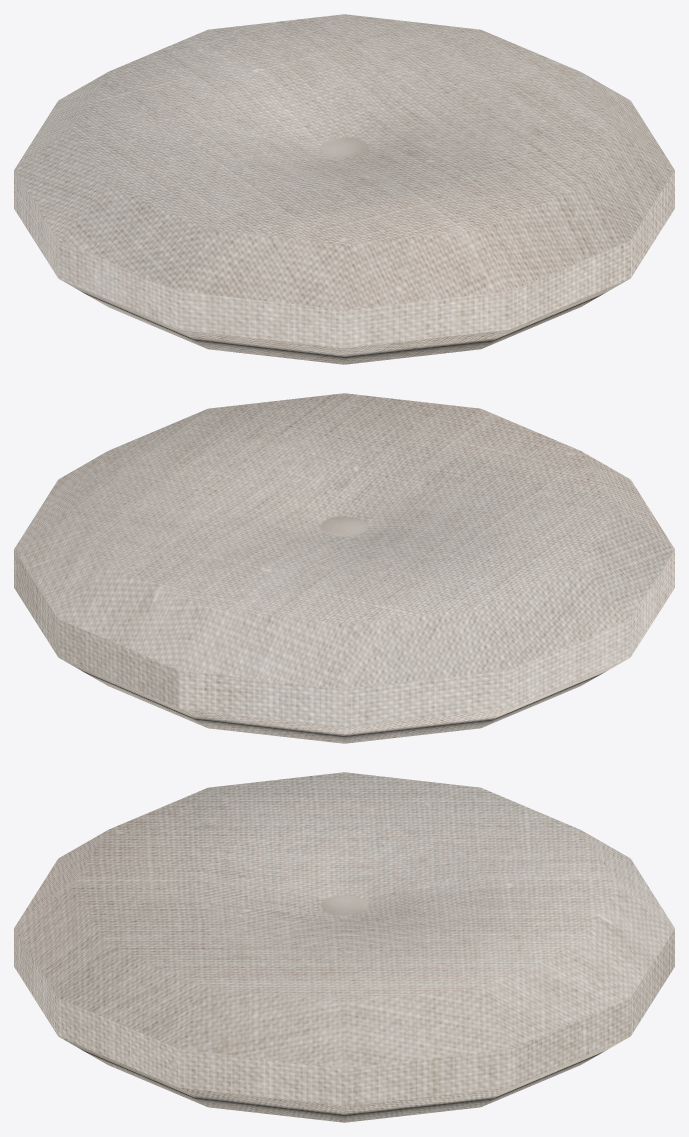
Rendered from pillow.fbx.
3 views of the same model, one above another, from view 1: azimuth 30°, elevation 25°; view 2: azimuth 150°, elevation 25°; view 3: azimuth 270°, elevation 25° (orthographic).
Visible parts, largest first — view 1: Pillow; view 2: Pillow; view 3: Pillow.
Part boxes in pixels (bbox=[...]): Pillow: bbox=[14, 14, 674, 364]; Pillow: bbox=[14, 393, 674, 743]; Pillow: bbox=[14, 772, 674, 1122].
Size of the model in its own units: 0.3001 by 0.3001 by 0.06.
